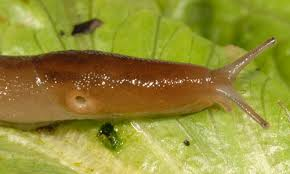slug: (1, 45, 271, 128)
